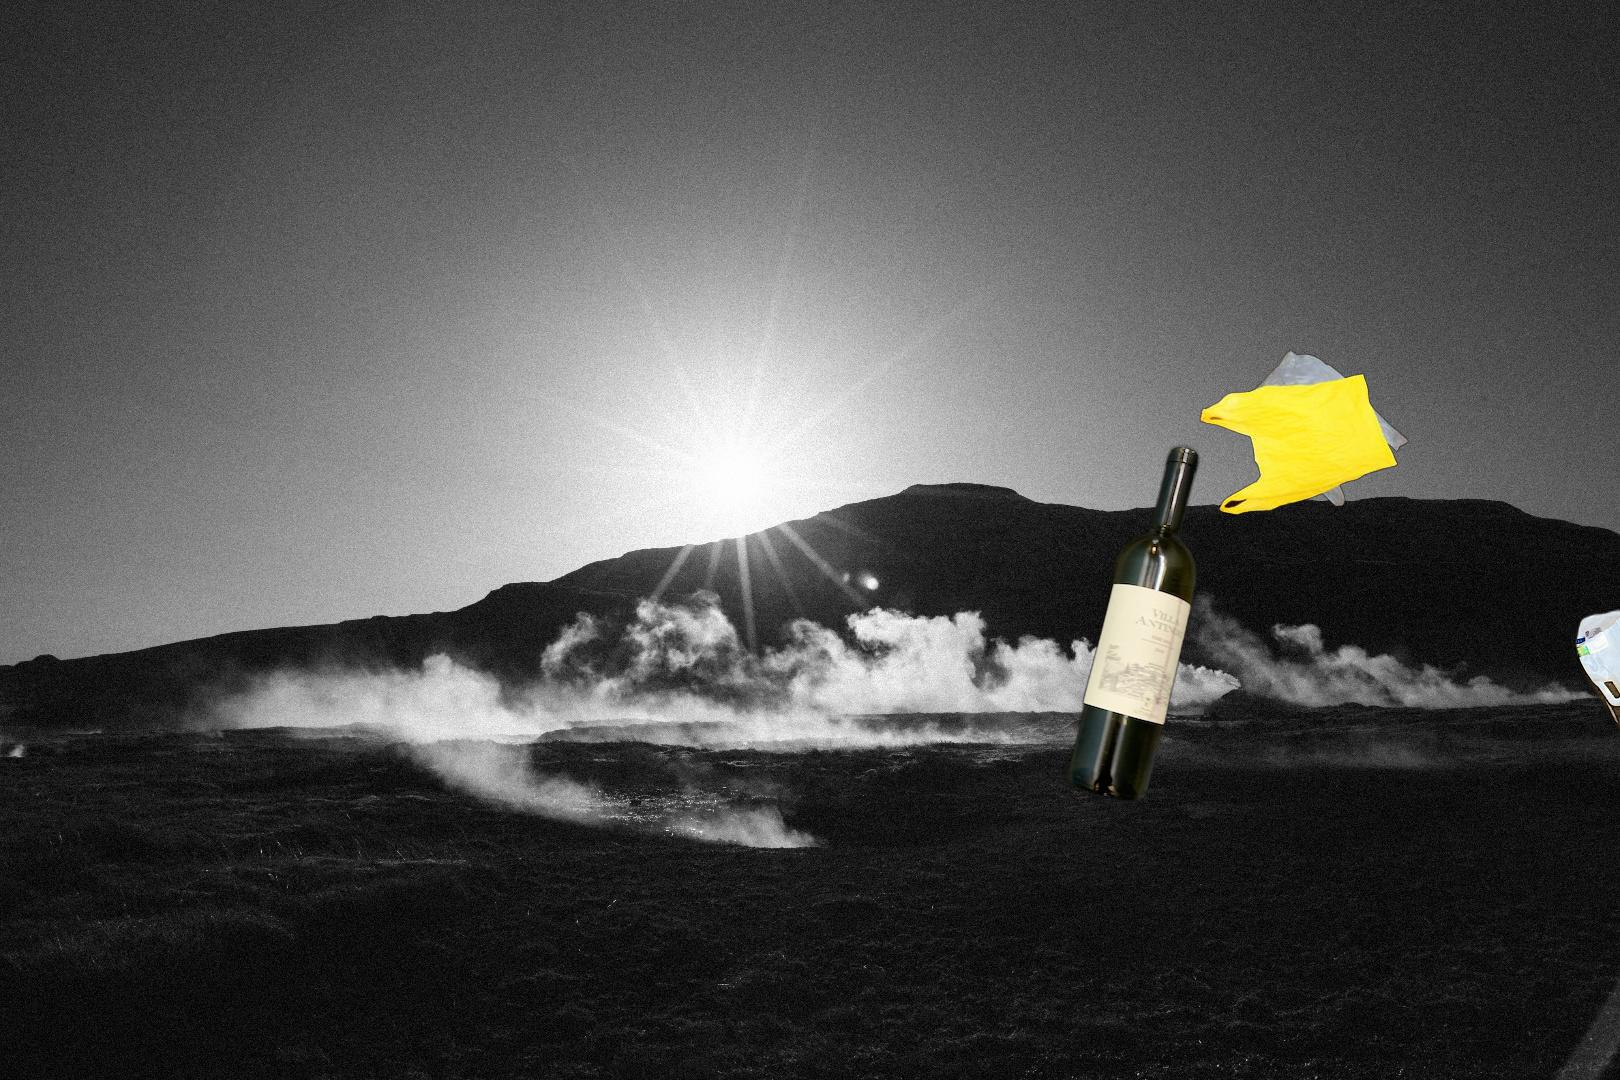glass: (1058, 439, 1204, 808)
plastic-bag: (1197, 347, 1411, 518)
plastic-bottles: (1572, 601, 1620, 744)
